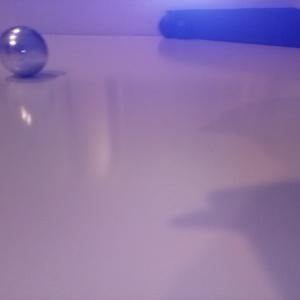alive_ball: (1, 26, 48, 77)
dead_ball: (157, 15, 178, 38), (173, 18, 192, 39)
